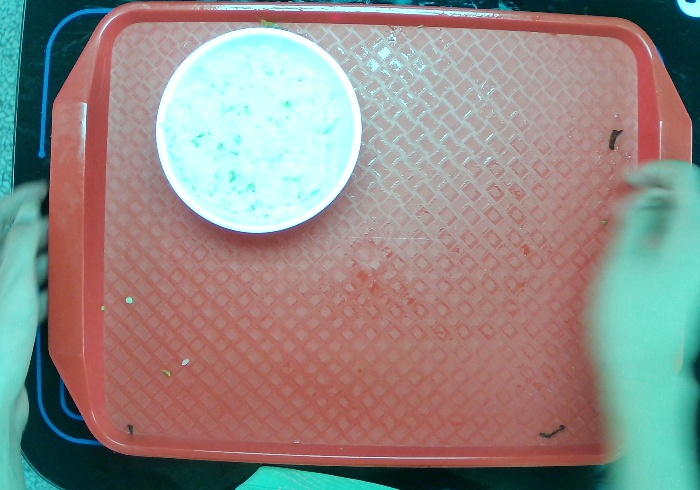YKMZ-Fan_Wan: (153, 23, 361, 232)
